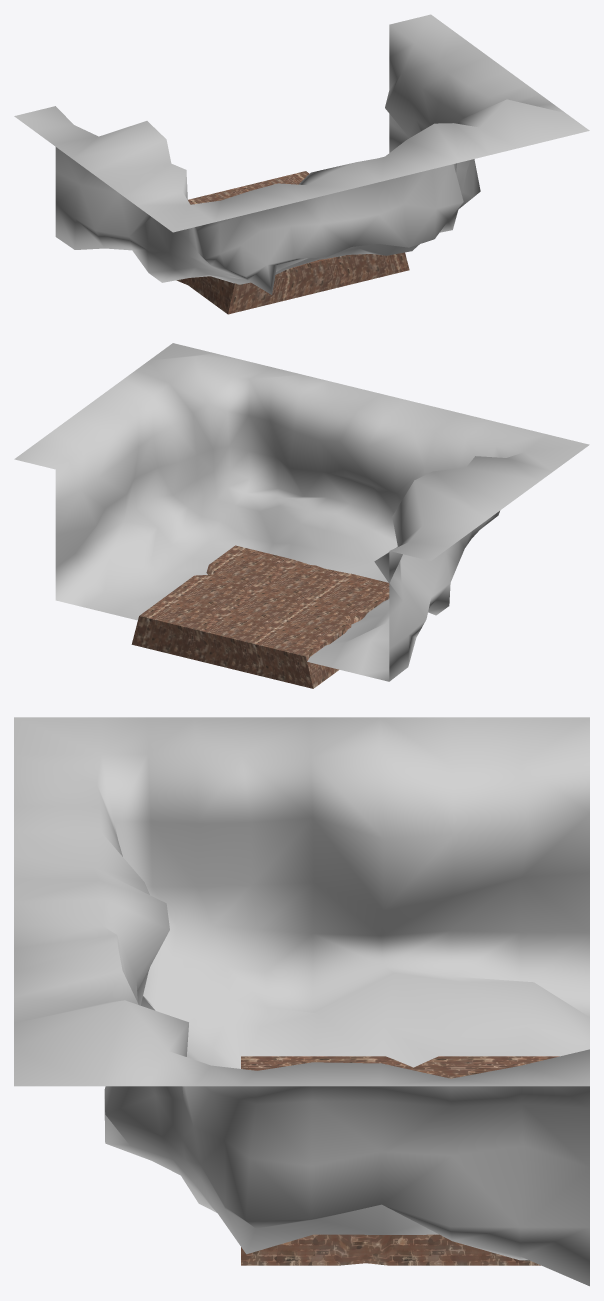
File: tile_naturalstart 1.fbx
The picture shows the model from 3 angles, top to bottom: view 1: azimuth 30°, elevation 25°; view 2: azimuth 150°, elevation 25°; view 3: azimuth 270°, elevation 25°; orthographic projection. The views are drawn at different scales.
Visible parts, largest first — view 1: tilenaturalstart; view 2: tilenaturalstart; view 3: tilenaturalstart.
Boxes of the visible parts, x1,y1,x2,y2 form: tilenaturalstart: (14, 14, 589, 314); tilenaturalstart: (14, 343, 589, 688); tilenaturalstart: (14, 717, 589, 1286).
Size of the model in its own units: 5000 by 3301 by 2044.
